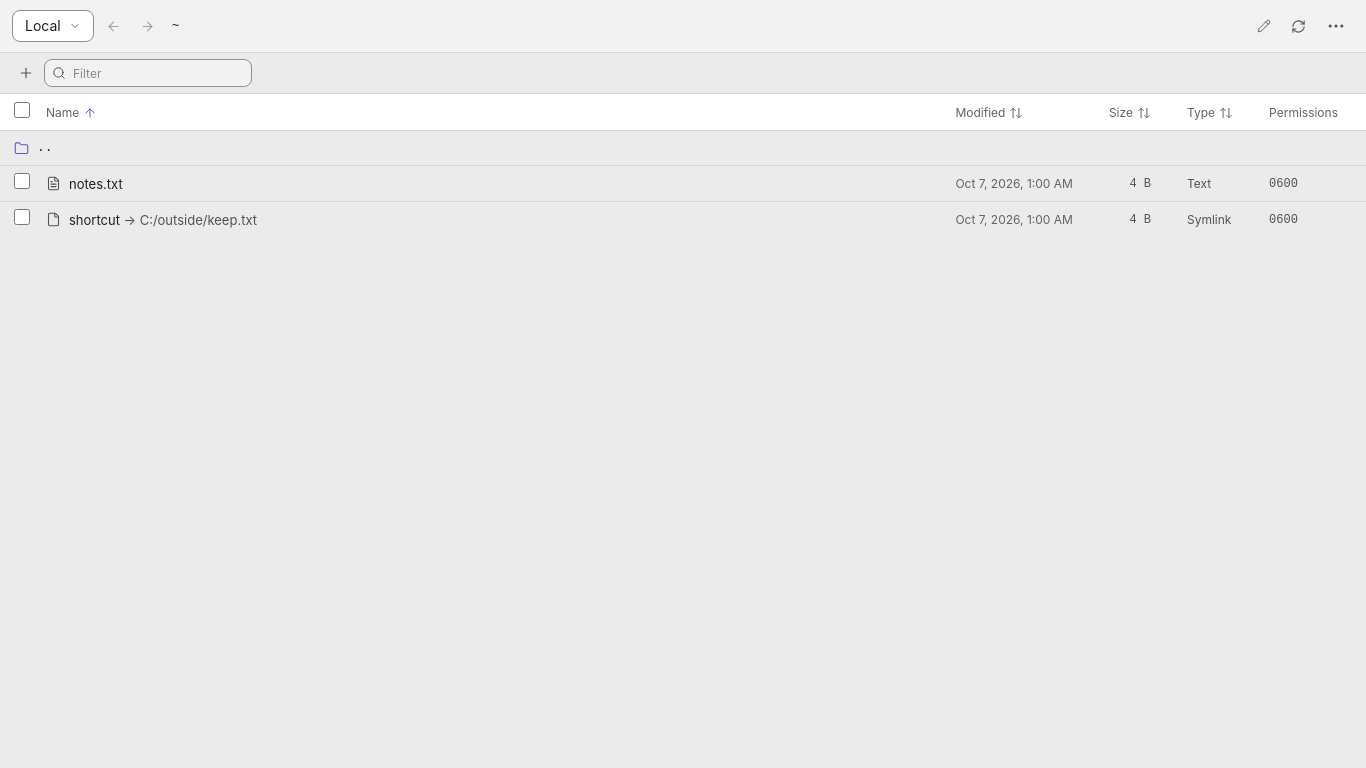
it: local entry actions through the shared pane › identifies the engine filesystem in the en confirmation and cancels without mutations
Click the button "notes.txt": (96, 184) [46,174,939,194]
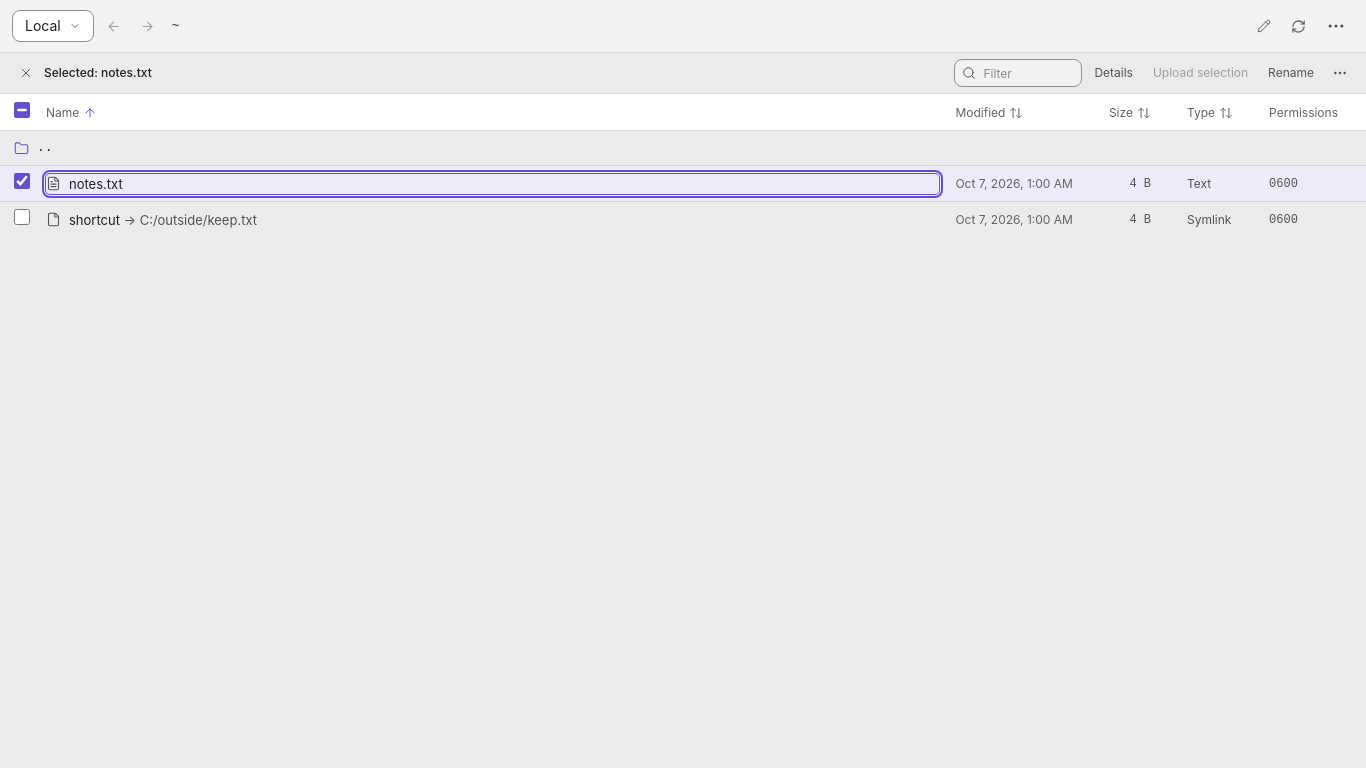
Click the button named "Actions for notes.txt": (1340, 73) [1326,59,1354,87]
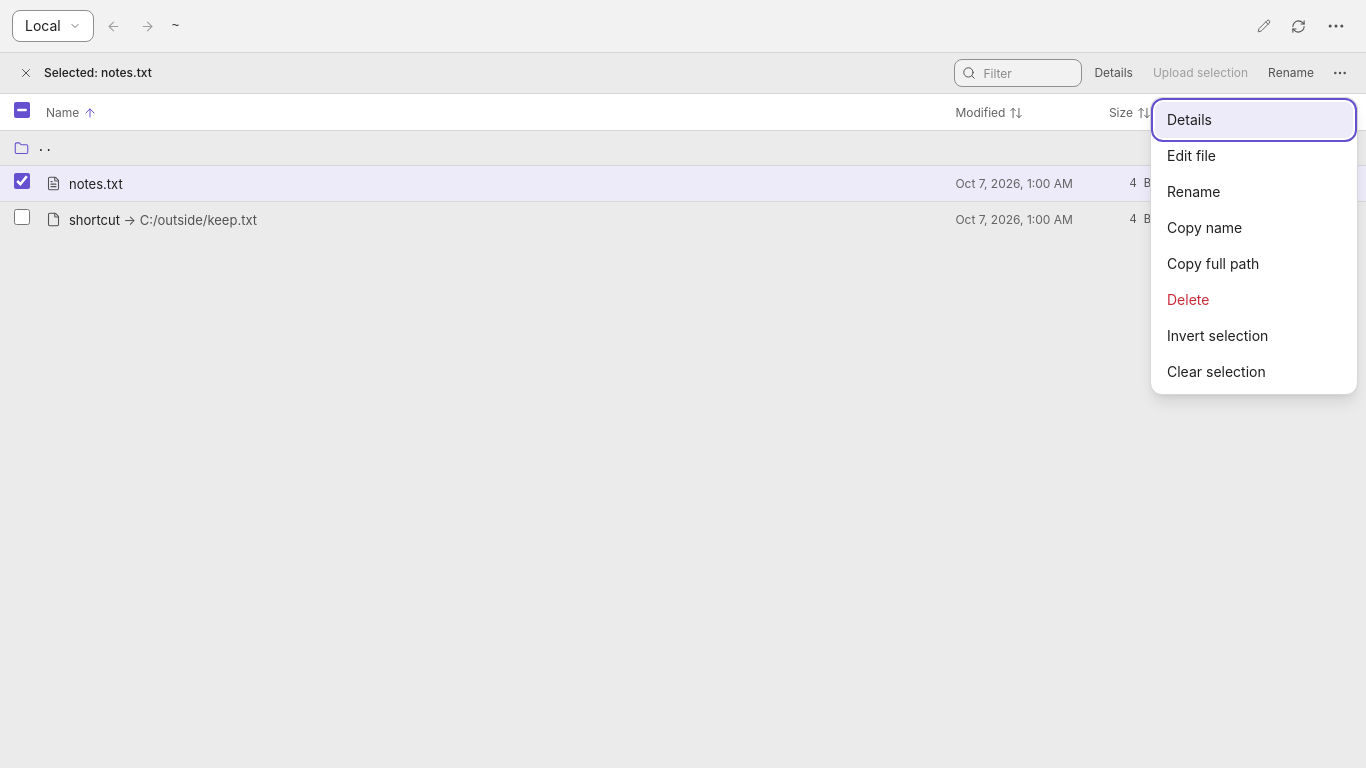
Click the menu item "Delete": (1254, 300) [1155,282,1353,318]
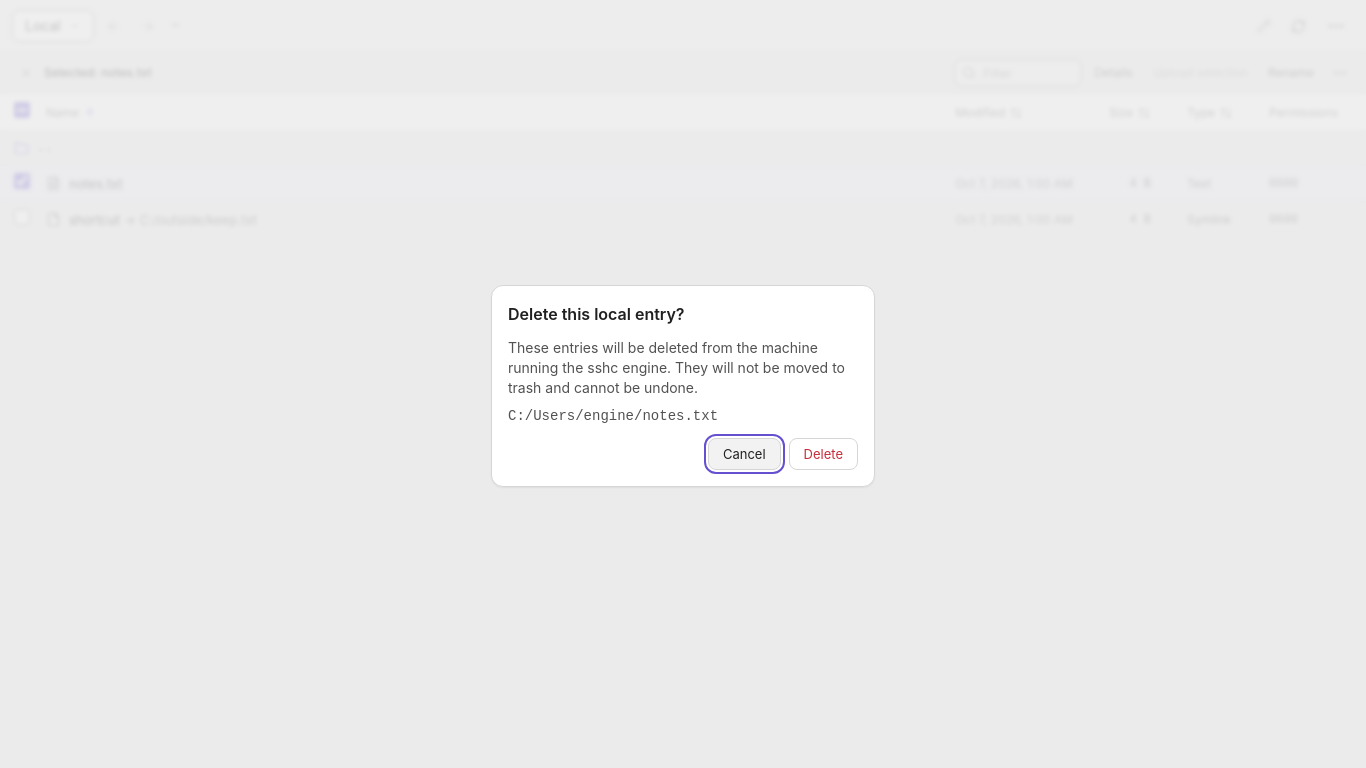
Expected: the dialog "Delete this local entry?" shows "C:/Users/engine/notes.txt", [508,408,718,424]
Expected: the dialog "Delete this local entry?" shows "machine running the sshc engine", [508,339,845,396]
Click the button "Cancel": (744, 454) [708,438,781,470]
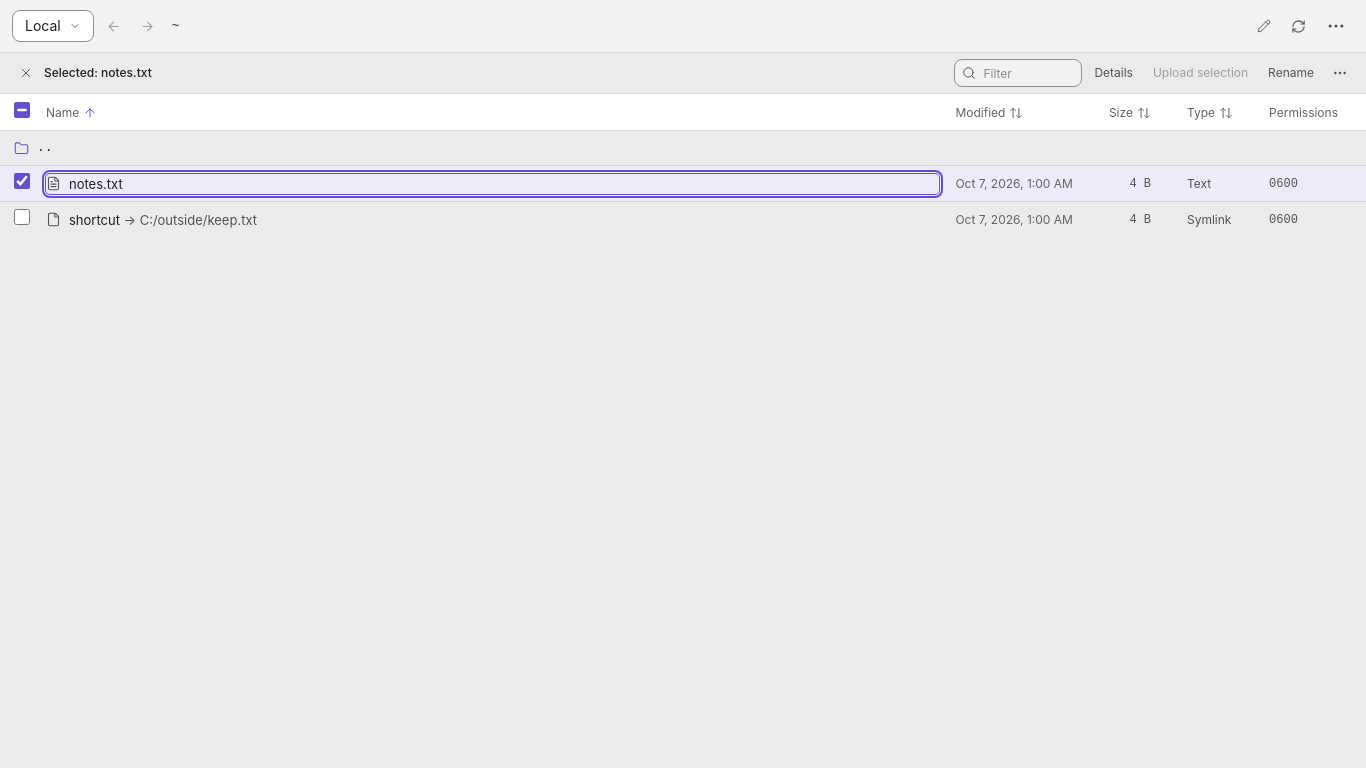
Expected: the dialog is gone
